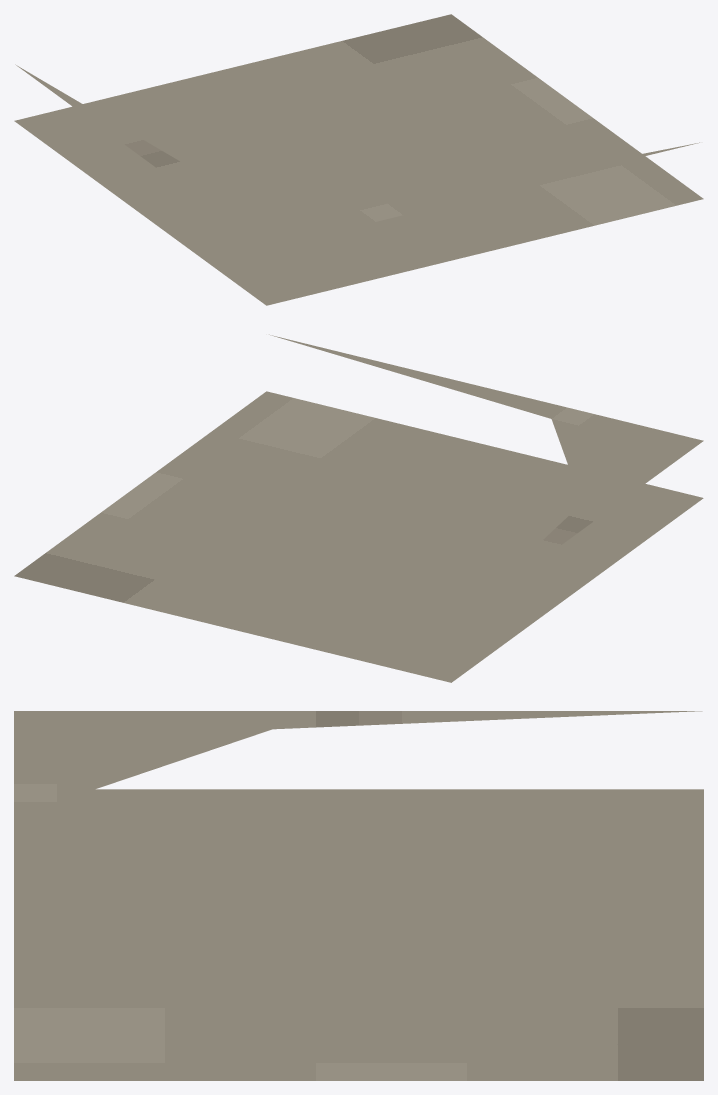
3 views of the same model, one above another, from view 1: azimuth 30°, elevation 25°; view 2: azimuth 150°, elevation 25°; view 3: azimuth 270°, elevation 25° (orthographic). The views are drawn at different scales.
Size of the model in its own units: 1 by 0.125 by 1.
Materials: 1 (1 with a texture image).
